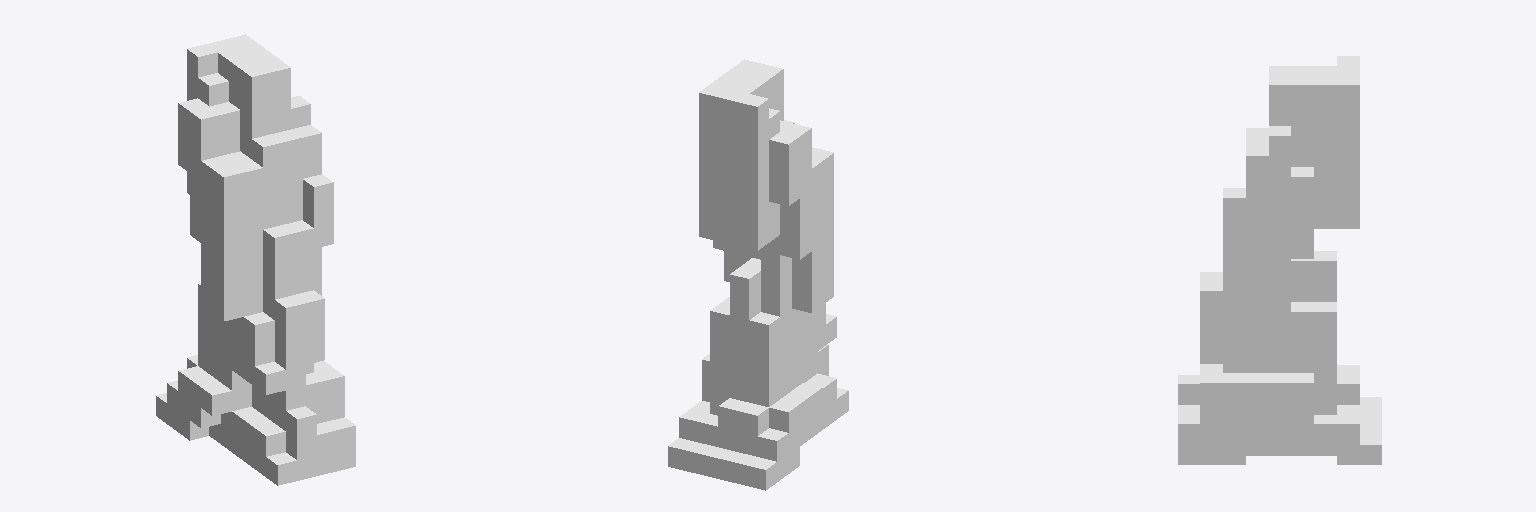
The model's file is mob1-6.obj.
3 views of the same model, side by side, from view 1: azimuth 30°, elevation 25°; view 2: azimuth 150°, elevation 25°; view 3: azimuth 270°, elevation 25° (orthographic).
Parts seen in each view (by area): view 1: object 1; view 2: object 1; view 3: object 1.
Part boxes in pixels (x1,y1,x2,y2): object 1: (156,34,355,485); object 1: (668,59,848,490); object 1: (1178,56,1381,464).
Bounding box in the file's own units: 0.5 × 1.8 × 0.9.